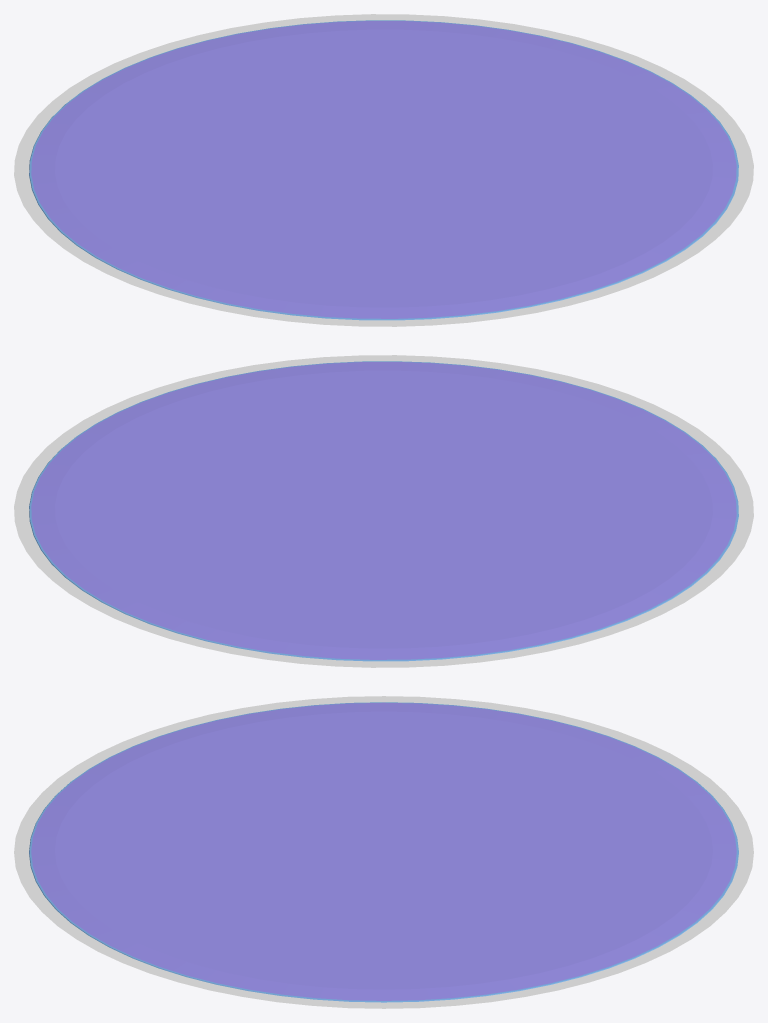
The model's file is island_big.glb.
3 renders of one model, top to bottom at view 1: azimuth 30°, elevation 25°; view 2: azimuth 150°, elevation 25°; view 3: azimuth 270°, elevation 25°, orthographic.
Parts seen in each view (by area): view 1: island100, island70, island40; view 2: island100, island70, island40; view 3: island100, island70, island40.
Boxes of the visible parts, bbox=[...] form: island100: bbox=[14, 14, 753, 326]; island70: bbox=[157, 70, 617, 264]; island40: bbox=[289, 125, 485, 208]; island100: bbox=[14, 355, 753, 667]; island70: bbox=[149, 411, 609, 606]; island40: bbox=[281, 467, 478, 550]; island100: bbox=[14, 696, 753, 1008]; island70: bbox=[154, 755, 613, 949]; island40: bbox=[286, 811, 482, 893].
Size of the model in its own units: 138 by 0.673 by 138.
